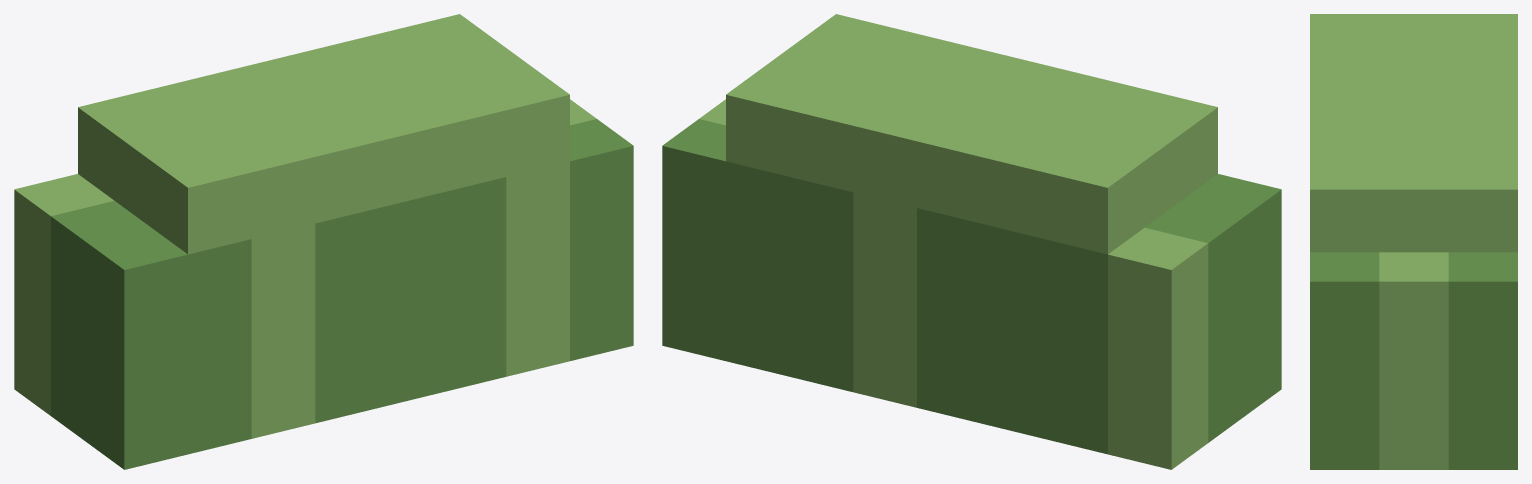
The model's file is hearthvale_prop_hedge.obj.
3 renders of one model, left to right at view 1: azimuth 30°, elevation 25°; view 2: azimuth 150°, elevation 25°; view 3: azimuth 270°, elevation 25°, orthographic. The views are drawn at different scales.
Visible parts, largest first — view 1: palette_12, palette_11; view 2: palette_12, palette_11; view 3: palette_12, palette_11.
Part boxes in pixels (x1,y1,x2,y2): palette_12: (14, 14, 596, 438); palette_11: (51, 119, 633, 469); palette_12: (699, 14, 1217, 469); palette_11: (662, 119, 1281, 454); palette_12: (1310, 14, 1517, 469); palette_11: (1310, 252, 1517, 469).
Bounding box in the file's own units: 0.5 × 0.25 × 0.1875.
